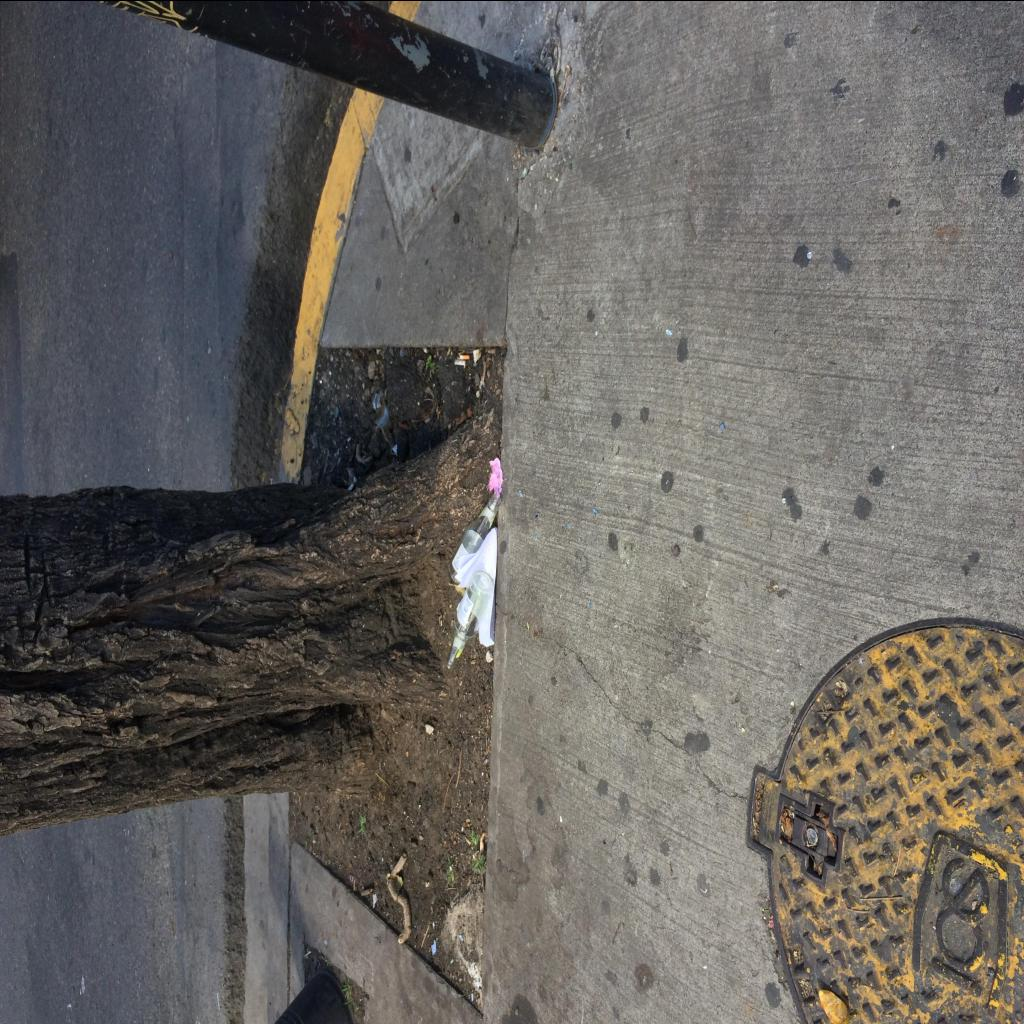Cigarette: (454, 358, 466, 364), (460, 353, 470, 358)
Glass bottle: (444, 568, 494, 670), (447, 492, 501, 584)
Normal paper: (457, 526, 497, 646)
